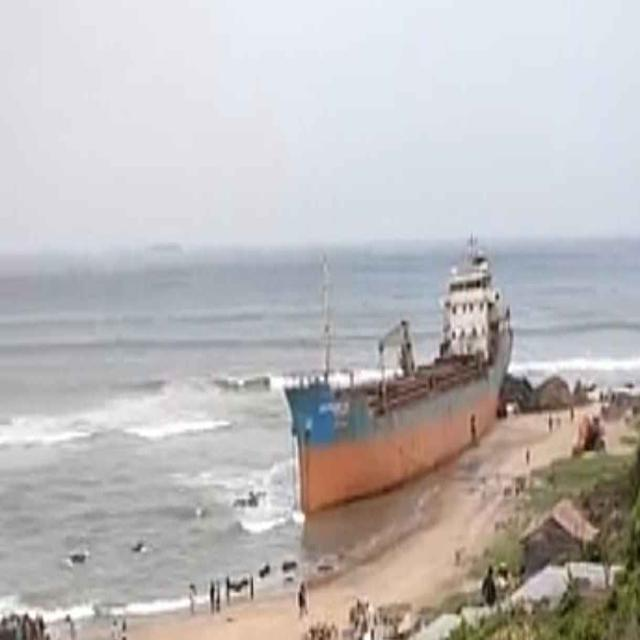ship: (258, 227, 516, 526)
